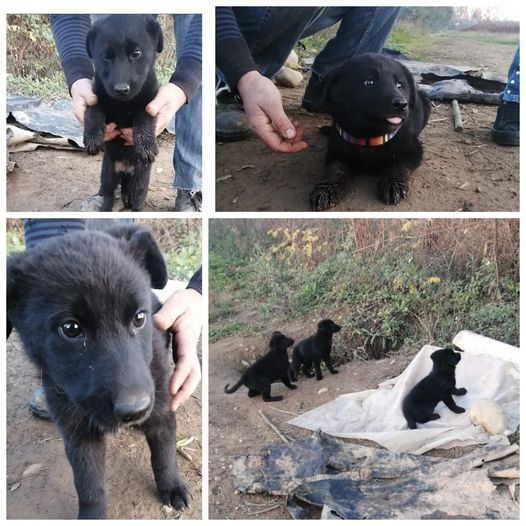dog: (9, 225, 194, 516), (309, 46, 432, 209), (73, 12, 167, 206), (391, 344, 480, 434), (218, 327, 299, 402), (295, 316, 350, 386)
